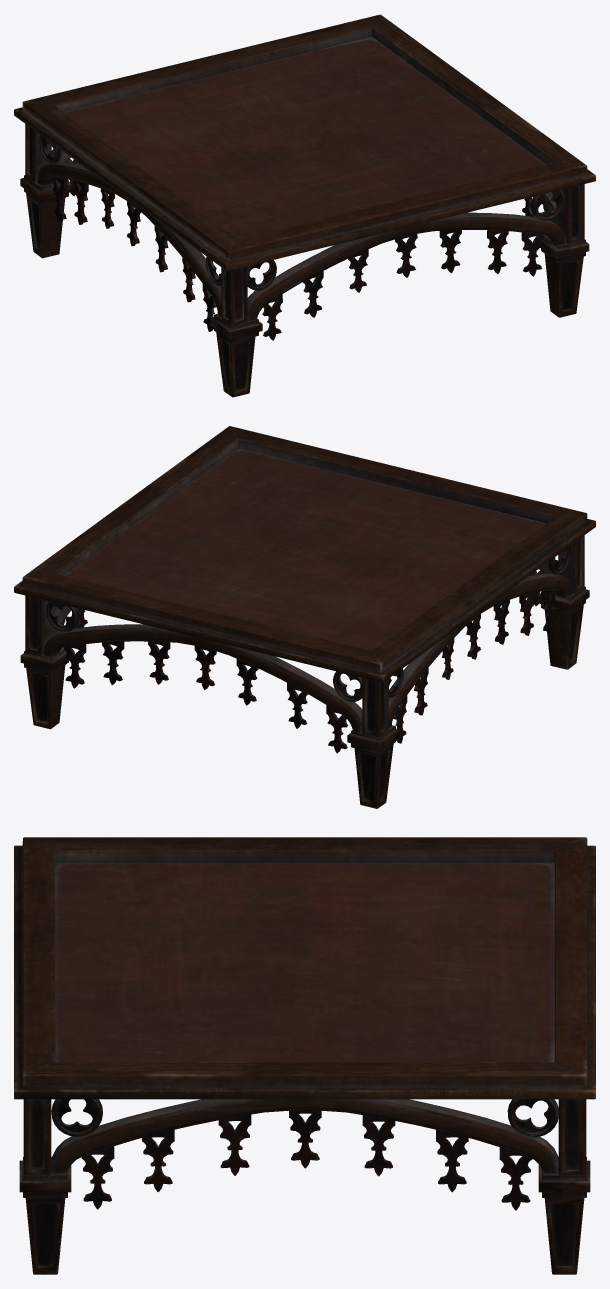
File: coffee-table.glb
3 renders of one model, top to bottom at view 1: azimuth 30°, elevation 25°; view 2: azimuth 150°, elevation 25°; view 3: azimuth 270°, elevation 25°, orthographic. The views are drawn at different scales.
Visible parts, largest first — view 1: gothic_coffee_table; view 2: gothic_coffee_table; view 3: gothic_coffee_table.
Boxes of the visible parts, x1,y1,x2,y2 form: gothic_coffee_table: (14,14,595,397); gothic_coffee_table: (14,426,595,808); gothic_coffee_table: (14,837,595,1274).
Size of the model in its own units: 1.44 by 0.5588 by 1.44.
Materials: 1 (1 with a texture image).
